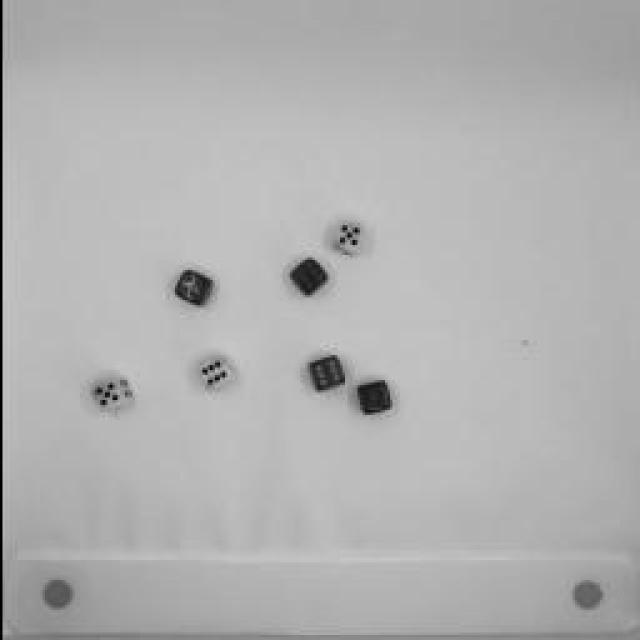dice_1: (351, 375, 394, 420)
dice_4: (166, 266, 216, 306)
dice_5: (85, 369, 133, 416), (329, 220, 366, 260)
dice_6: (191, 348, 239, 394), (286, 255, 332, 297), (306, 350, 346, 395)
